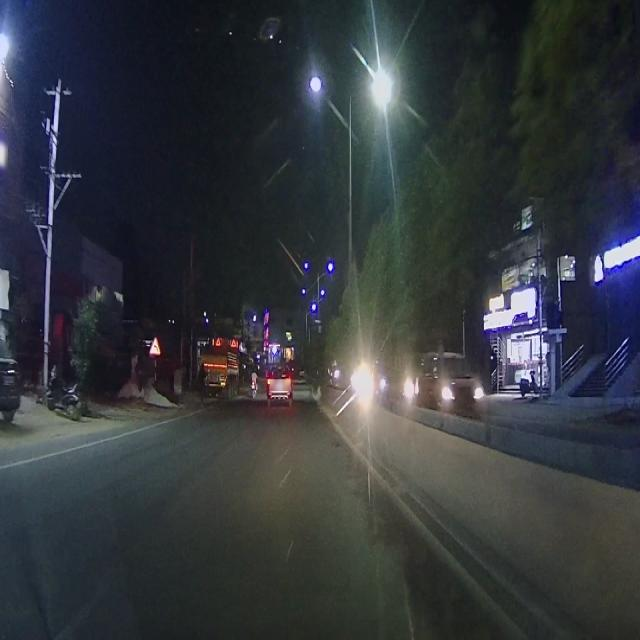left-hand-curve: (147, 332, 160, 356)
